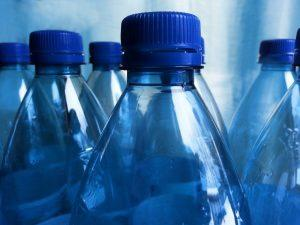plastic: (81, 11, 248, 224), (0, 31, 104, 223), (228, 39, 299, 224)
